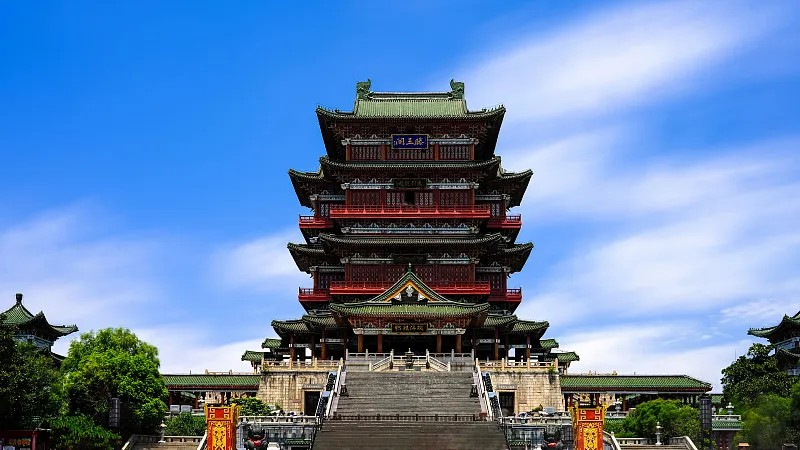Teng: (242, 78, 579, 372)
